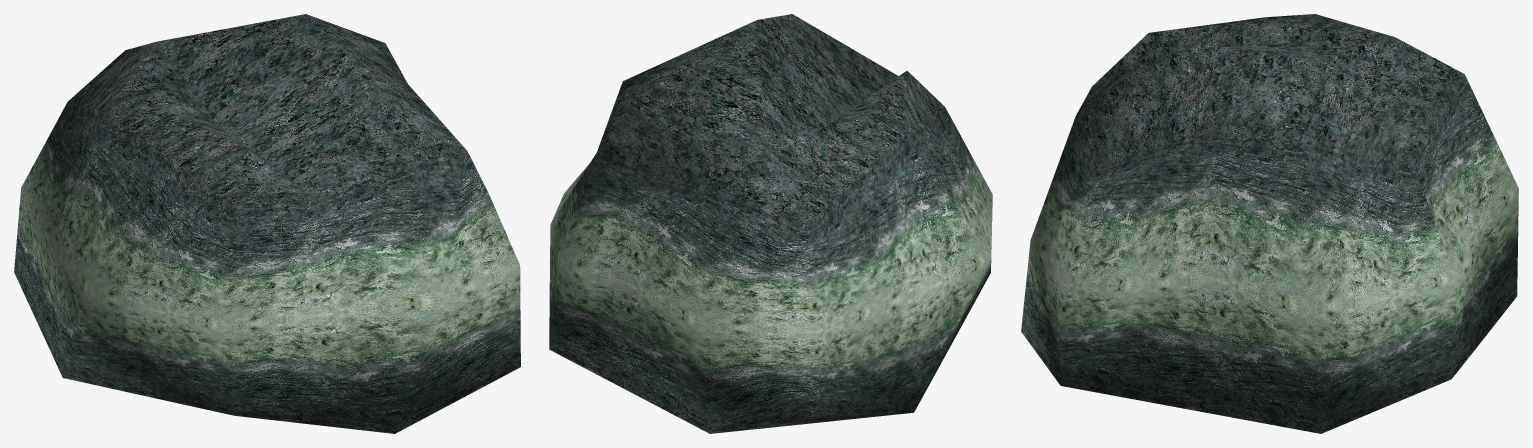
The model's file is rock_beach_dark_md_l0.fbx.
3 renders of one model, left to right at view 1: azimuth 30°, elevation 25°; view 2: azimuth 150°, elevation 25°; view 3: azimuth 270°, elevation 25°, orthographic. The views are drawn at different scales.
Visible parts, largest first — view 1: mesh_node; view 2: mesh_node; view 3: mesh_node.
Part boxes in pixels (left/top/right/bottom): mesh_node: left=14, top=14, right=520, bottom=433; mesh_node: left=549, top=14, right=992, bottom=433; mesh_node: left=1021, top=14, right=1518, bottom=433.
Size of the model in its own units: 7.45 by 5.68 by 7.92.
